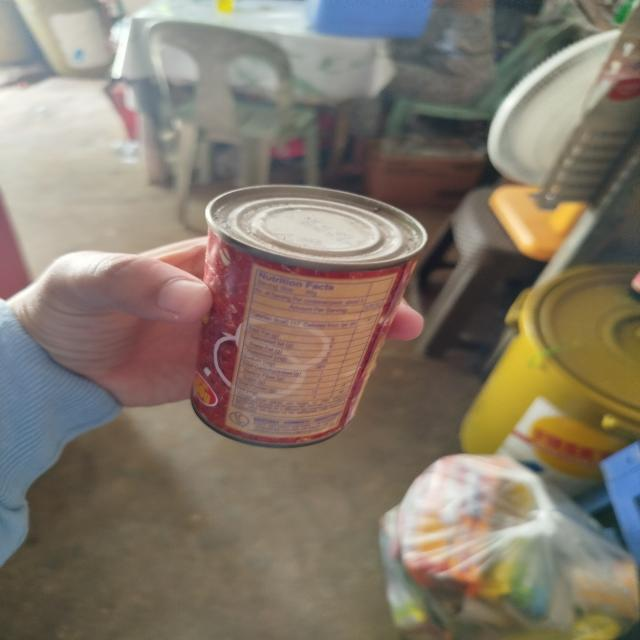metal: (181, 163, 448, 462)
residual: (369, 437, 640, 640)
